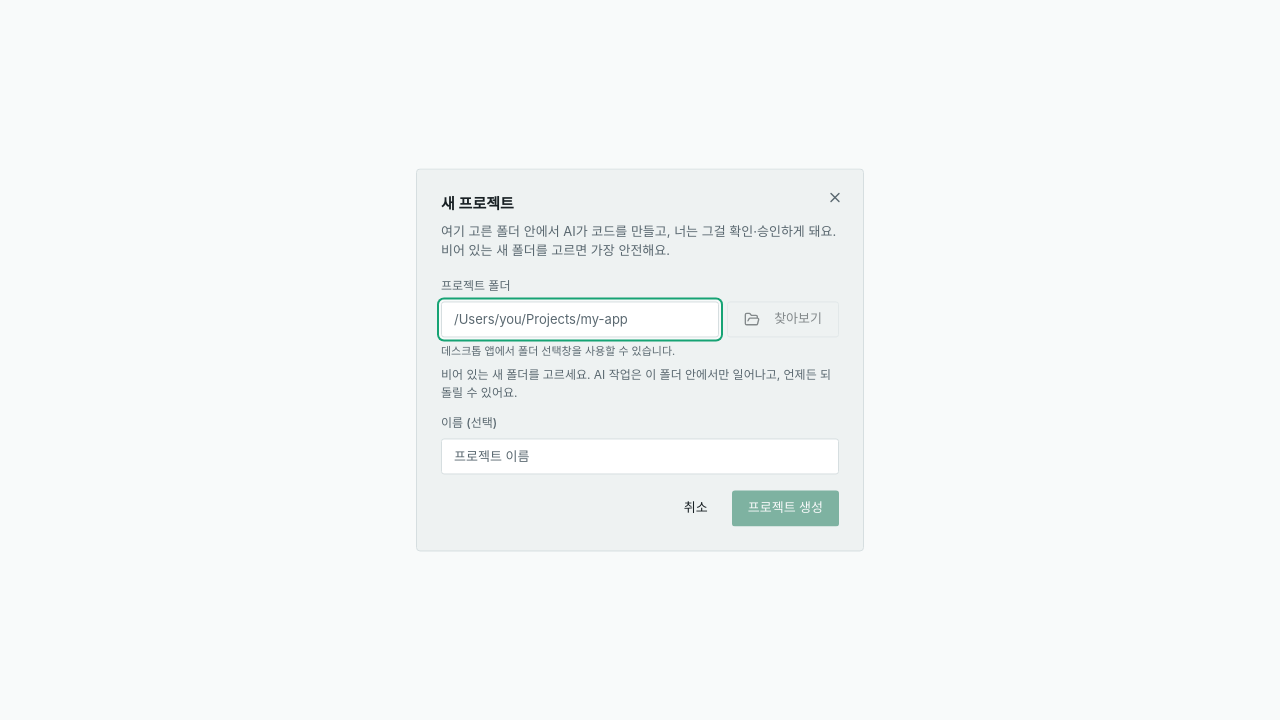
Test: NewProjectDialog beginner guidance › surfaces a non-blocking note for a home/Desktop root but not a real project folder (P1-07)
Type "/Users/alice" into the field with test id "np-path" at [580, 319], box [441,301,719,337]
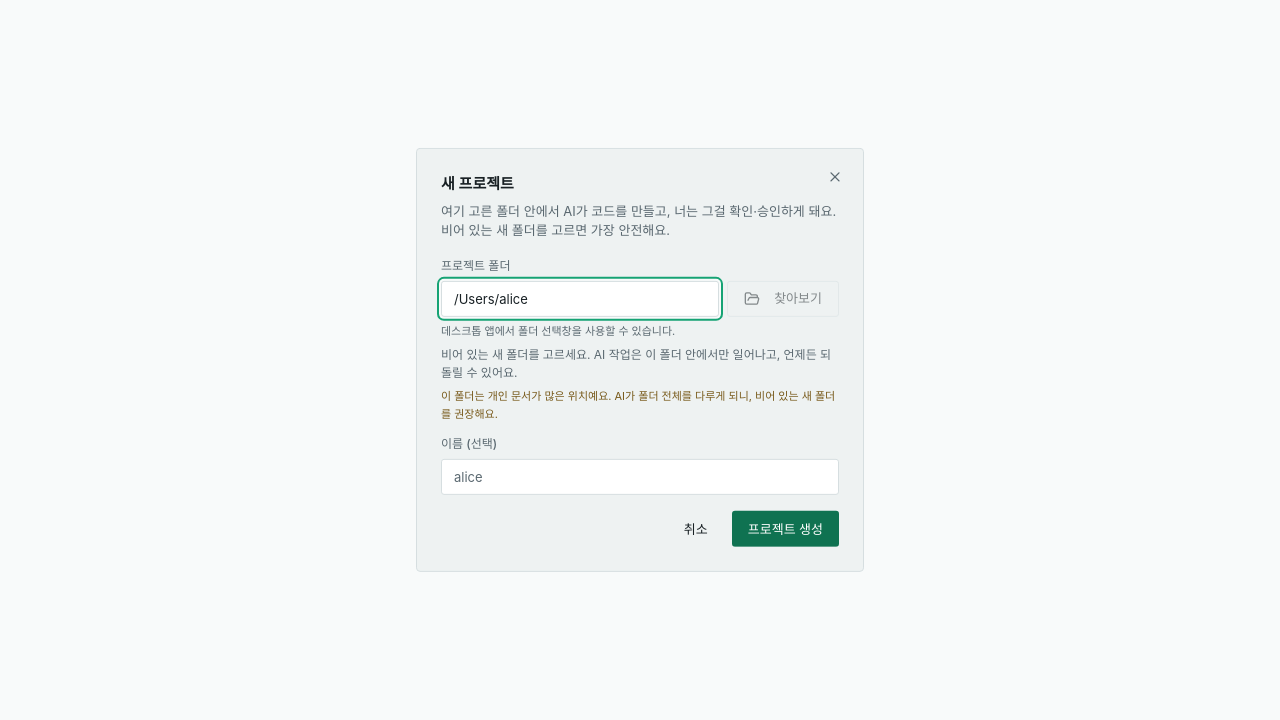
Expected: the text "이 폴더는 개인 문서가 많은 위치예요. AI가 폴더 전체를 다루게 되니, 비어 있는 새 폴더를 권장해요." is shown, [441,388,839,423]
Expected: the button with test id "np-create" is enabled, [732,511,839,547]
Replace the text in the field with test id "np-path" with "/Users/alice/projects/my-app" at [580, 298], box [441,280,719,316]
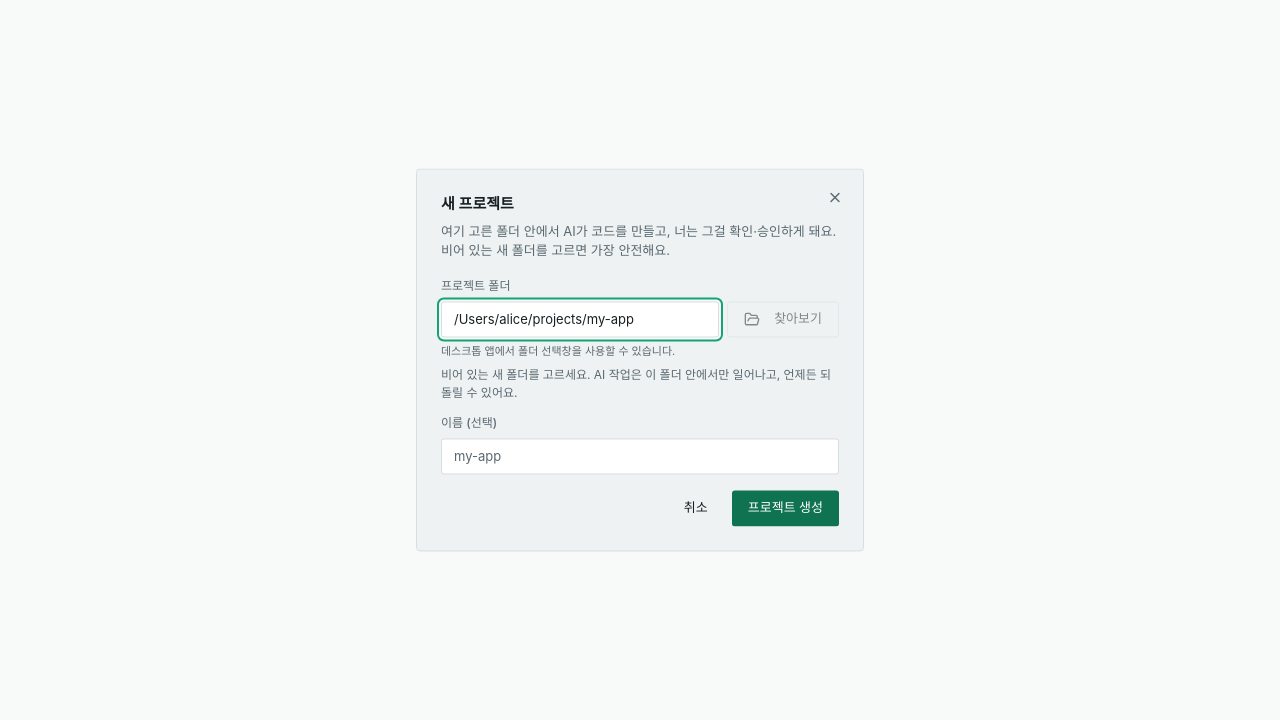
Expected: the button with test id "np-create" is enabled, [732,490,839,526]
Expected: the text with test id "np-folder-root-note" is gone
